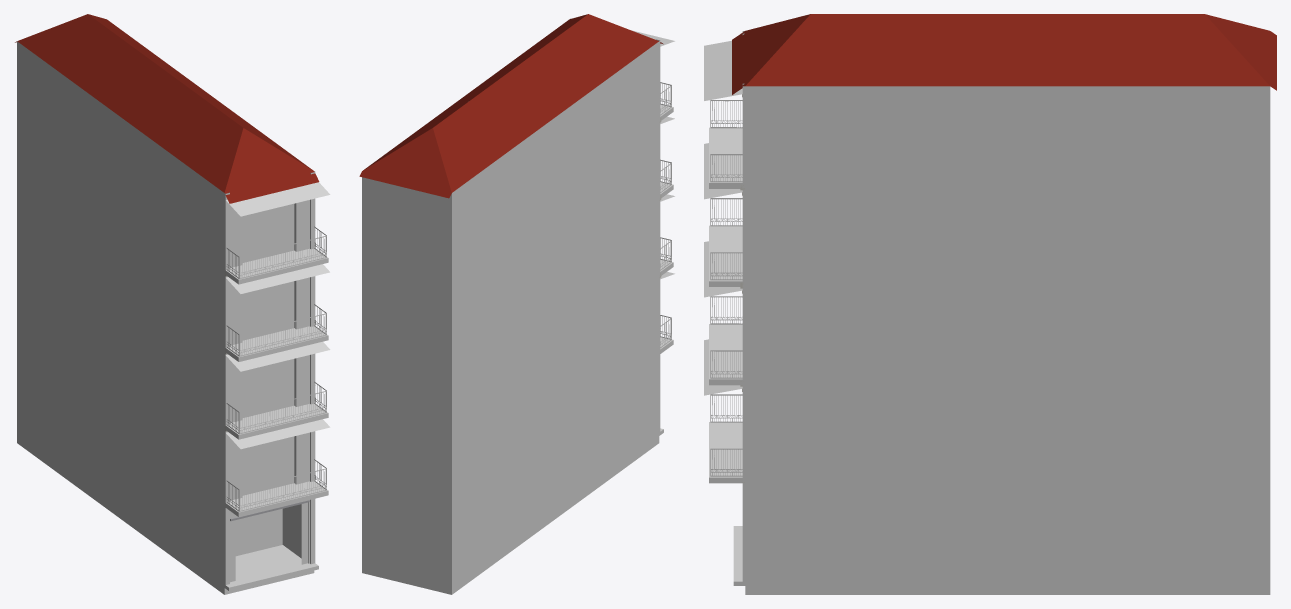
3 renders of one model, left to right at view 1: azimuth 30°, elevation 25°; view 2: azimuth 150°, elevation 25°; view 3: azimuth 270°, elevation 25°, orthographic. The views are drawn at different scales.
Visible parts, largest first — view 1: TH_D16_C_09_LOD0; view 2: TH_D16_C_09_LOD0; view 3: TH_D16_C_09_LOD0.
Part boxes in pixels (x1,y1,x2,y2): TH_D16_C_09_LOD0: (15, 14, 330, 594); TH_D16_C_09_LOD0: (359, 14, 674, 594); TH_D16_C_09_LOD0: (704, 14, 1276, 594).
Size of what is drawn, in the model's own units: 4 by 18.6 by 17.45.
